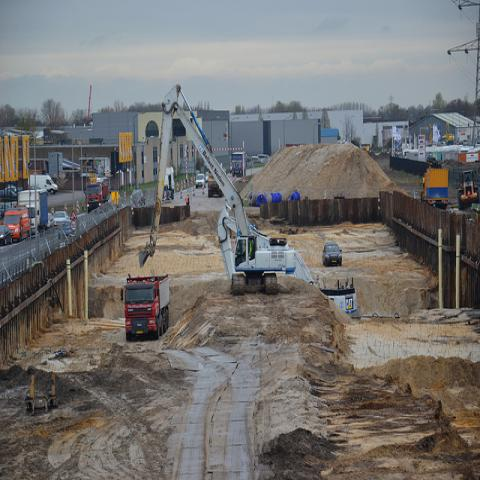car: (3, 204, 30, 244), (322, 241, 342, 267), (0, 224, 13, 246), (53, 211, 69, 225), (45, 213, 56, 229), (196, 174, 206, 188), (206, 171, 208, 182)
truck: (139, 83, 298, 295), (119, 271, 170, 342), (18, 189, 49, 235), (419, 168, 450, 210), (86, 182, 108, 214), (162, 166, 175, 204), (231, 152, 247, 176)
